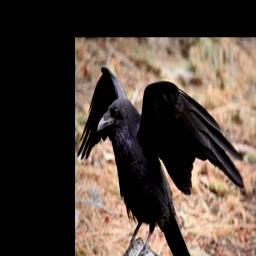Crow: (77, 64, 246, 256)
